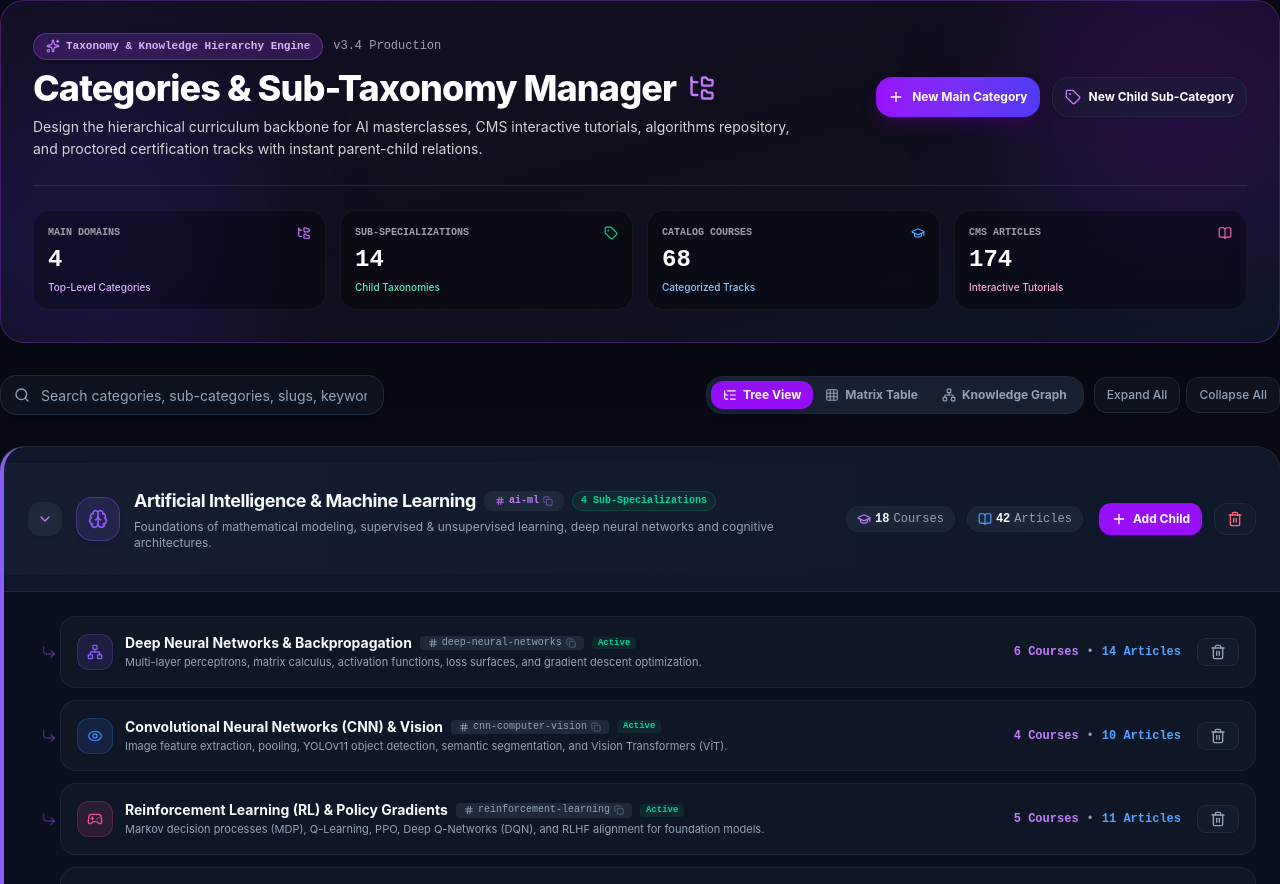
Test: Categories & Child Categories Taxonomy Management › opens Child Sub-Category modal and adds a sub-category
Click the button "New Child Sub-Category" at (1149, 97), box 1052,77 -> 1247,117
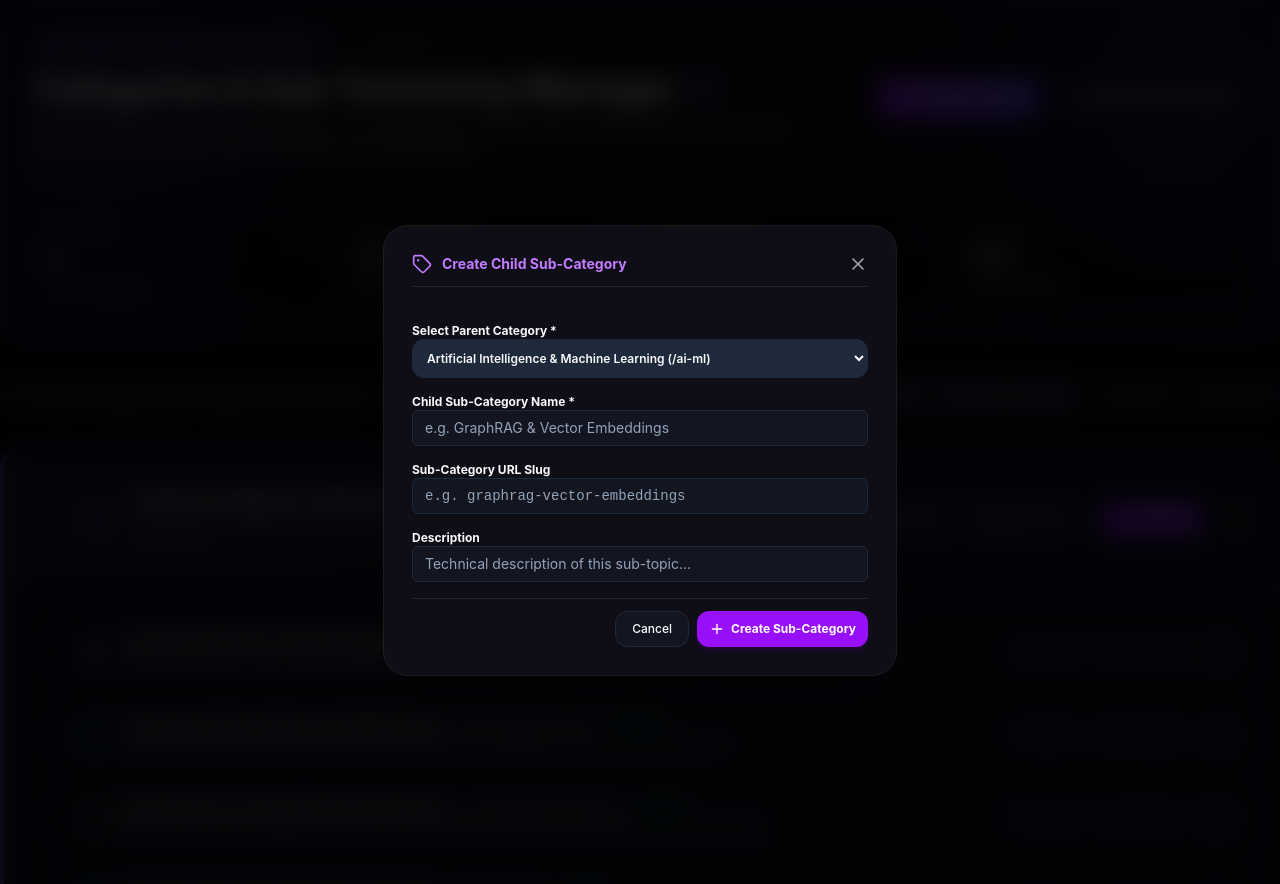
Expected: the text "Create Child Sub-Category" is shown, 442,254 -> 627,274
Expected: the text "Select Parent Category *" is shown, 412,322 -> 557,338
Type "Graph Neural Networks" into the field with placeholder "e.g. GraphRAG & Vector Embeddings" at (640, 428), box 412,410 -> 868,446
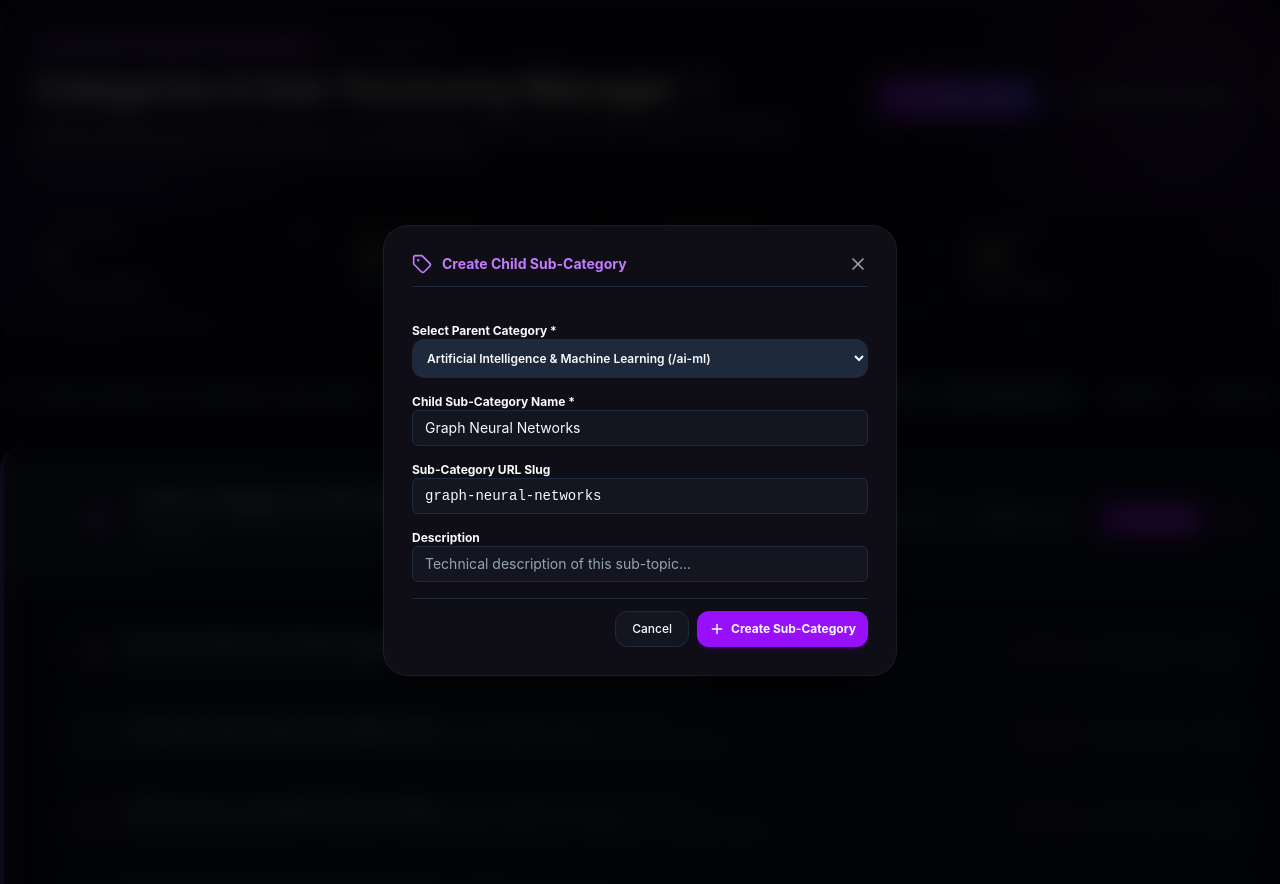
Click the button "Create Sub-Category" at (782, 628), box 697,610 -> 868,646
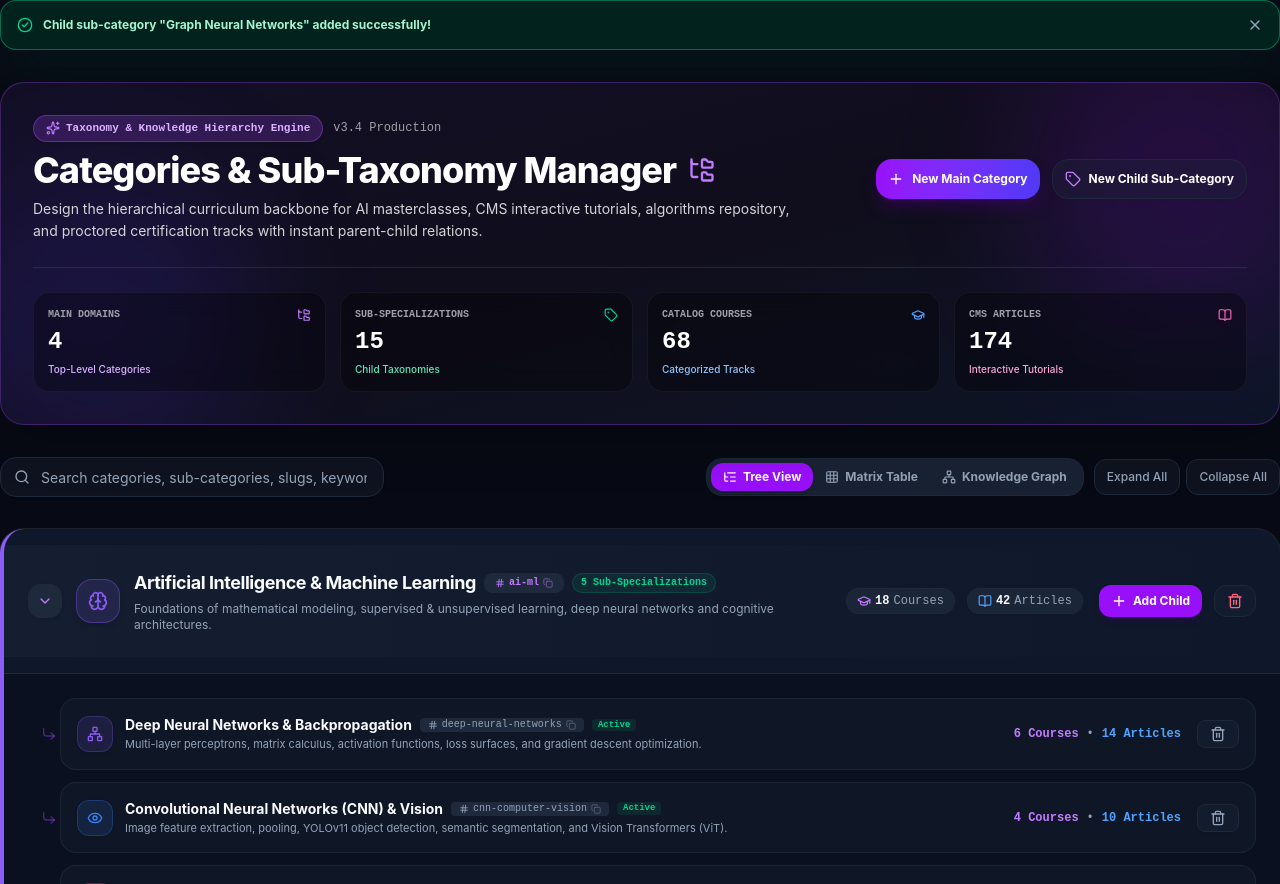
Expected: the text "added successfully" is shown, 43,17 -> 431,32
